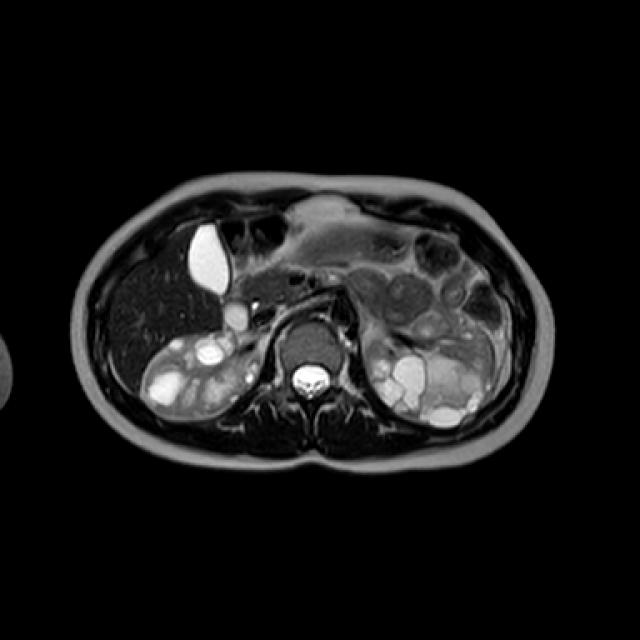Sol: (365, 315, 493, 424)
sag: (139, 303, 265, 421)
